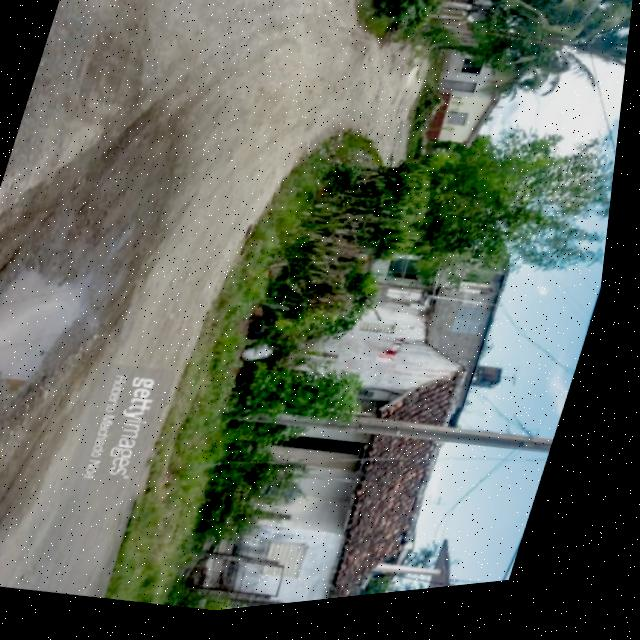Pothole: (0, 247, 122, 410)
